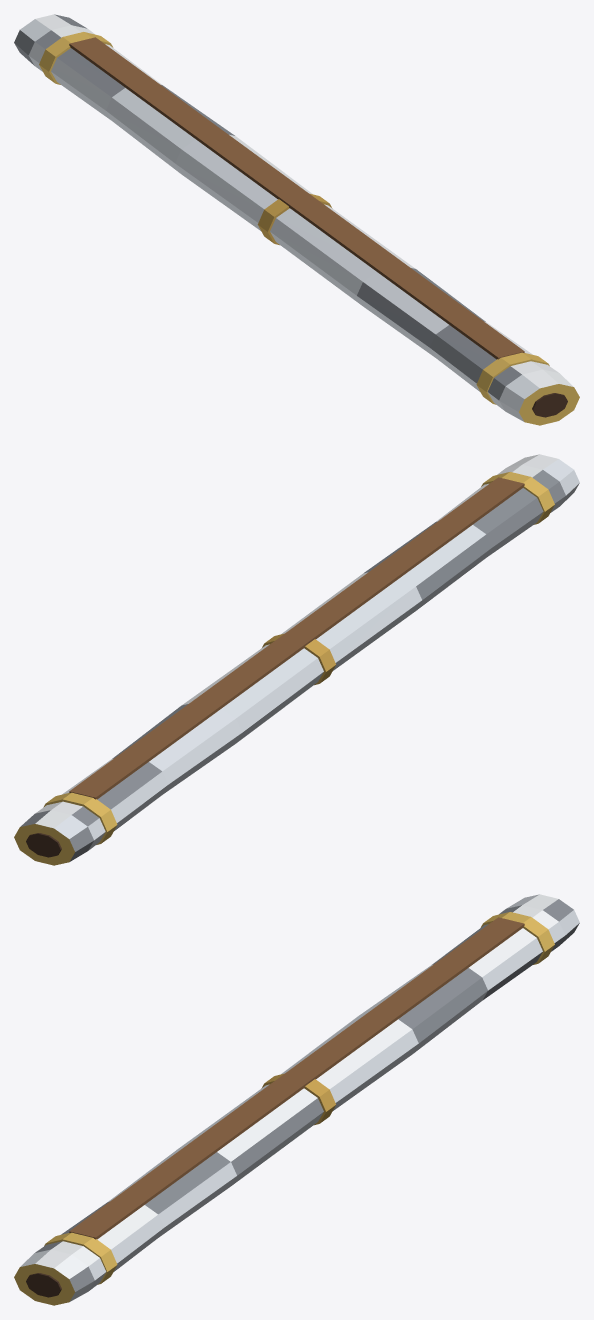
The model's file is BalanceBeam.obj.
3 views of the same model, one above another, from view 1: azimuth 30°, elevation 25°; view 2: azimuth 150°, elevation 25°; view 3: azimuth 330°, elevation 25° (orthographic).
Bounding box in the file's own units: 0.94 × 0.581 × 12.06.
